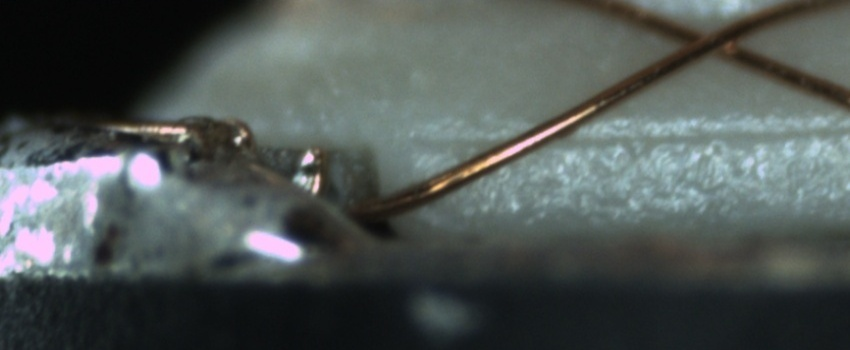CL: (661, 12, 762, 70)
DL: (401, 110, 849, 163)
TE: (88, 108, 332, 208)
